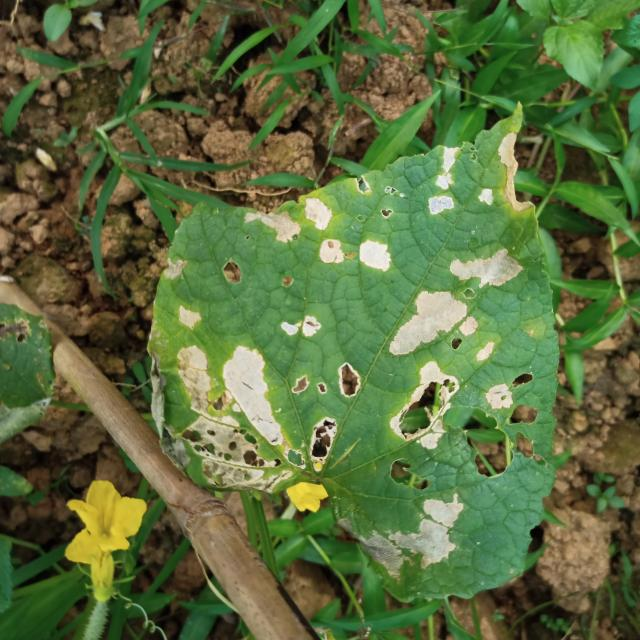disease_cucumber: (250, 141, 570, 363), (146, 252, 366, 492), (358, 353, 543, 581)
